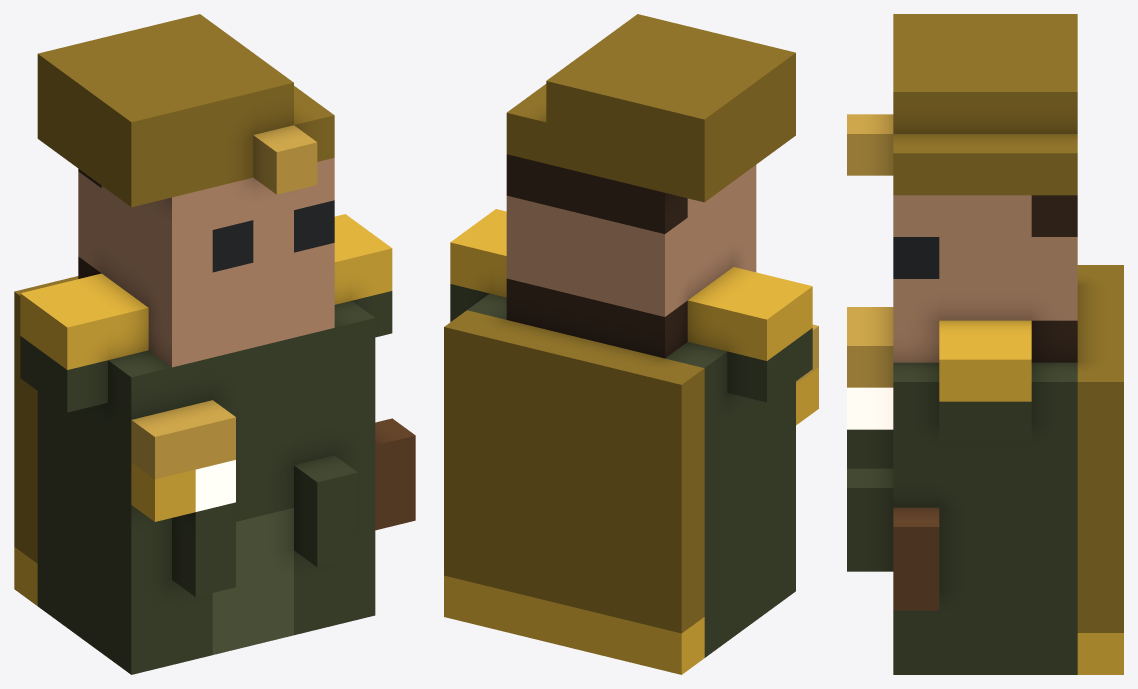
File: cm_hero_t_2.glb
3 views of the same model, side by side, from view 1: azimuth 30°, elevation 25°; view 2: azimuth 150°, elevation 25°; view 3: azimuth 270°, elevation 25° (orthographic). The views are drawn at different scales.
Visible parts, largest first — view 1: cm_hero_t_2_body; view 2: cm_hero_t_2_body; view 3: cm_hero_t_2_body.
Part boxes in pixels (x1,y1,x2,y2): cm_hero_t_2_body: (14,14,415,674); cm_hero_t_2_body: (444,14,818,674); cm_hero_t_2_body: (847,14,1123,674).
Bounding box in the file's own units: 0.5 × 0.8125 × 0.375.
Materials: 1 (1 with a texture image).
